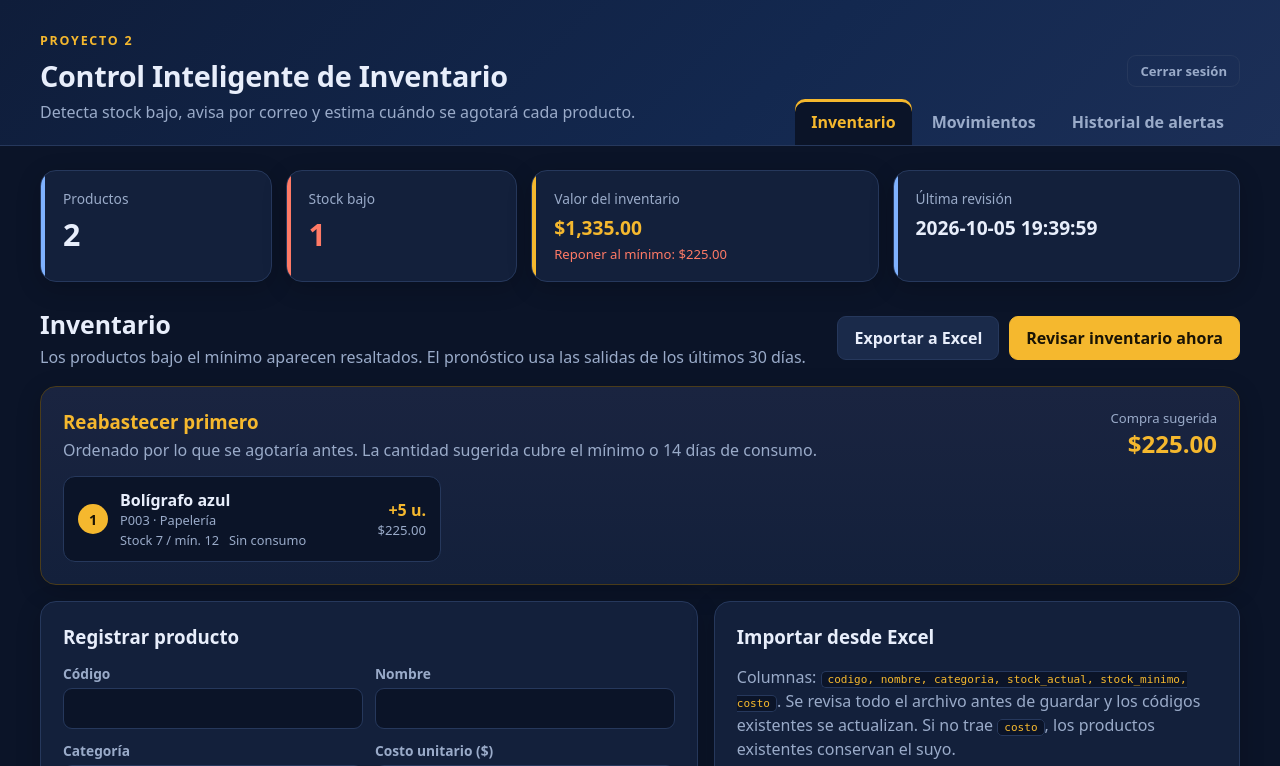
Scenario: Inventario › 'Revisar inventario ahora' lleva al historial con el resultado
What coordinates should you click on to do the following:
click the button "Revisar inventario ahora"
I would click on:
 (1125, 338)
Its box is [1009,316,1240,360].
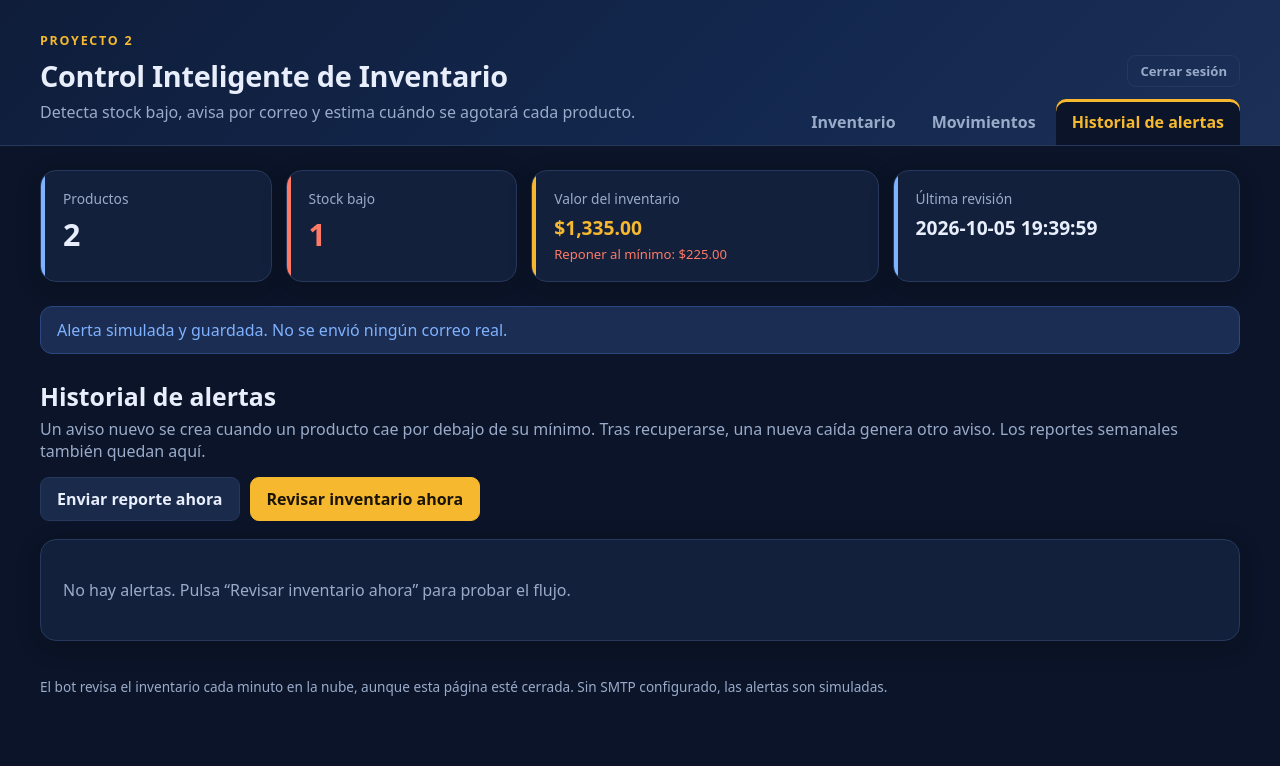
Expected: the text "Alerta simulada y guardada. No se envió ningún correo real." is shown, [40,306,1240,354]
Expected: the heading "Historial de alertas" is shown, [40,379,276,413]
